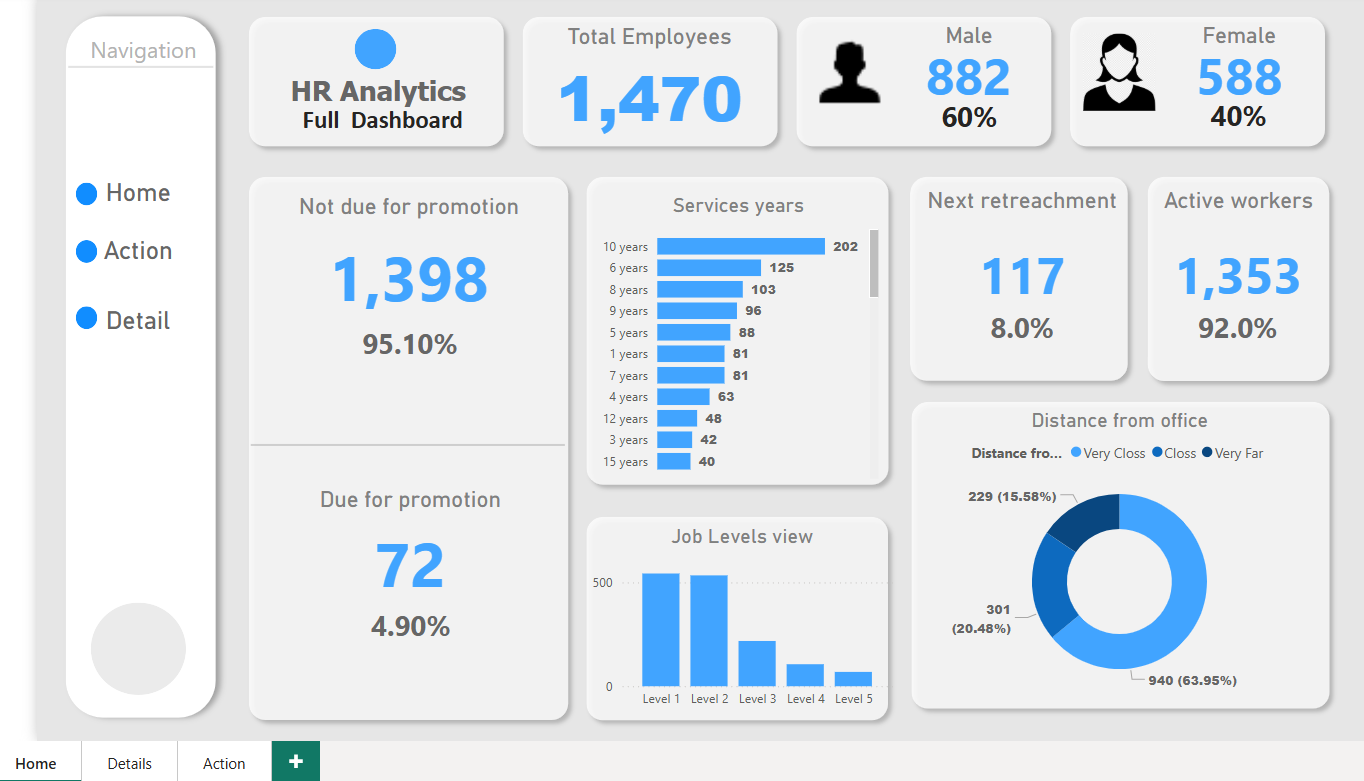

This screenshot's page, from the dashboard's own definition file:
{"tool":"powerbi","page":{"name":"Home","canvas":[1280,720],"ordinal":0},"visuals":[{"type":"shape","box":[16.5,9.6,166.5,699.2],"z":0},{"type":"shape","box":[195.4,12.4,264.3,143.1],"z":1000},{"type":"shape","box":[459.7,12.4,264.3,143.1],"z":2000},{"type":"shape","box":[724,12.4,264.3,143.1],"z":3000},{"type":"shape","box":[988.2,12.4,264.3,143.1],"z":4000},{"type":"shape","box":[195.4,166.5,326.2,542.3],"z":5000},{"type":"shape","box":[521.6,166.2,309.7,315.2],"z":6000},{"type":"shape","box":[521.6,494.1,309.7,214.7],"z":7000},{"type":"shape","box":[834.8,384.2,421.6,314.1],"z":8000},{"type":"shape","box":[833.6,166.7,228.3,215],"z":9000},{"type":"shape","box":[1063.1,166.7,193.3,215],"z":10000},{"type":"textbox","box":[209.7,71.2,238.7,51.4],"z":11000},{"type":"textbox","box":[36.9,33,130.5,51.4],"z":12000},{"type":"textbox","box":[207.5,100.1,252.1,55.5],"z":13000},{"type":"shape","box":[305.9,33,40.9,39.6],"z":14000},{"type":"card","title":"Total Employees","fields":{"Values":["All Measures.Total Emp"]},"box":[468,27.5,246.4,112.9],"z":15000},{"type":"card","title":"Male","fields":{"Values":["All Measures.Male"]},"box":[814.8,26.2,170.7,75.7],"z":16000},{"type":"card","fields":{"Values":["All Measures.Male %"]},"box":[834.1,90.8,132.1,55.1],"z":17000},{"type":"card","title":"Female","fields":{"Values":["All Measures.Female"]},"box":[1068.7,26.2,183.1,75.7],"z":18000},{"type":"card","fields":{"Values":["All Measures.Female %"]},"box":[1083.9,90.8,152.8,53.7],"z":19000},{"type":"image","box":[736.3,26.2,95,90.8],"z":20000},{"type":"actionButton","title":"Home","box":[27.8,176.4,140.1,30.2],"z":21000},{"type":"image","box":[1004.7,33,79.8,84],"z":22000},{"type":"actionButton","title":"Action","box":[27.7,233.4,139.8,56.7],"z":23000},{"type":"card","title":"Active workers","fields":{"Values":["All Measures.On service"]},"box":[1058.3,186,203,142.6],"z":24000},{"type":"actionButton","title":"Detail","box":[27.7,300.7,139.8,58],"z":25000},{"type":"card","fields":{"Values":["All Measures.% Active workers"]},"box":[1082.4,296,153.4,53.2],"z":26000},{"type":"card","title":"Next retreachment","fields":{"Values":["All Measures.Due for retirment"]},"box":[843.2,186,215,142.6],"z":27000},{"type":"card","fields":{"Values":["All Measures.%Due for retirment"]},"box":[865,296,171.5,53.2],"z":28000},{"type":"columnChart","title":"Job Levels view","fields":{"Category":["HR Analytics Data.Job Level"],"Y":["All Measures.Total Emp"]},"box":[531.3,512,300,185.8],"z":29000},{"type":"barChart","title":"Services years","fields":{"Category":["HR Analytics Data.Total working Years"],"Y":["All Measures.Total Emp"]},"box":[536.4,192.1,280.3,280.3],"z":30000},{"type":"donutChart","title":"Distance from office","fields":{"Category":["HR Analytics Data.Distance from office"],"Y":["All Measures.Total Emp"]},"box":[840.8,399.9,408.3,282.7],"z":31000},{"type":"card","title":"Not due for promotion","fields":{"Values":["All Measures.Not Due"]},"box":[207.8,192.1,303.2,130.5],"z":32000},{"type":"card","title":"Due for promotion","fields":{"Values":["All Measures.Due for promotion"]},"box":[209,473.8,303.2,119.6],"z":33000},{"type":"shape","box":[206.6,427.7,303.2,14.5],"z":34000},{"type":"card","fields":{"Values":["All Measures.% Not due for promotion"]},"box":[283.5,309.7,152.8,53.7],"z":35000},{"type":"card","fields":{"Values":["All Measures.% Due for promotion"]},"box":[285.1,582.5,152.2,53.2],"z":36000},{"type":"shape","box":[36.9,180.7,21.1,22.4],"z":37000},{"type":"shape","box":[36.9,236,21.1,22.4],"z":38000},{"type":"shape","box":[36.9,300.7,21.1,22.4],"z":39000},{"type":"shape","box":[51.4,586.8,92.3,89.7],"z":40000},{"type":"shape","box":[30.2,61.6,140.1,15.7],"z":41000}]}

Visuals, with their boxes on the page's 1280x720 design canvas (x1, y1, x2, y2). These are canvas units, not pixel positions in the 1364x781 screenshot, which may show the page scaled, cropped or inside an application window:
shape: [left=16, top=10, right=183, bottom=709]
shape: [left=195, top=12, right=460, bottom=156]
shape: [left=460, top=12, right=724, bottom=156]
shape: [left=724, top=12, right=988, bottom=156]
shape: [left=988, top=12, right=1252, bottom=156]
shape: [left=195, top=166, right=522, bottom=709]
shape: [left=522, top=166, right=831, bottom=481]
shape: [left=522, top=494, right=831, bottom=709]
shape: [left=835, top=384, right=1256, bottom=698]
shape: [left=834, top=167, right=1062, bottom=382]
shape: [left=1063, top=167, right=1256, bottom=382]
textbox: [left=210, top=71, right=448, bottom=123]
textbox: [left=37, top=33, right=167, bottom=84]
textbox: [left=208, top=100, right=460, bottom=156]
shape: [left=306, top=33, right=347, bottom=73]
"Total Employees" card: [left=468, top=28, right=714, bottom=140]
"Male" card: [left=815, top=26, right=986, bottom=102]
card - All Measures.Male %: [left=834, top=91, right=966, bottom=146]
"Female" card: [left=1069, top=26, right=1252, bottom=102]
card - All Measures.Female %: [left=1084, top=91, right=1237, bottom=144]
image: [left=736, top=26, right=831, bottom=117]
"Home" actionButton: [left=28, top=176, right=168, bottom=207]
image: [left=1005, top=33, right=1084, bottom=117]
"Action" actionButton: [left=28, top=233, right=168, bottom=290]
"Active workers" card: [left=1058, top=186, right=1261, bottom=329]
"Detail" actionButton: [left=28, top=301, right=168, bottom=359]
card - All Measures.% Active workers: [left=1082, top=296, right=1236, bottom=349]
"Next retreachment" card: [left=843, top=186, right=1058, bottom=329]
card - All Measures.%Due for retirment: [left=865, top=296, right=1036, bottom=349]
"Job Levels view" columnChart: [left=531, top=512, right=831, bottom=698]
"Services years" barChart: [left=536, top=192, right=817, bottom=472]
"Distance from office" donutChart: [left=841, top=400, right=1249, bottom=683]
"Not due for promotion" card: [left=208, top=192, right=511, bottom=323]
"Due for promotion" card: [left=209, top=474, right=512, bottom=593]
shape: [left=207, top=428, right=510, bottom=442]
card - All Measures.% Not due for promotion: [left=284, top=310, right=436, bottom=363]
card - All Measures.% Due for promotion: [left=285, top=582, right=437, bottom=636]
shape: [left=37, top=181, right=58, bottom=203]
shape: [left=37, top=236, right=58, bottom=258]
shape: [left=37, top=301, right=58, bottom=323]
shape: [left=51, top=587, right=144, bottom=676]
shape: [left=30, top=62, right=170, bottom=77]
